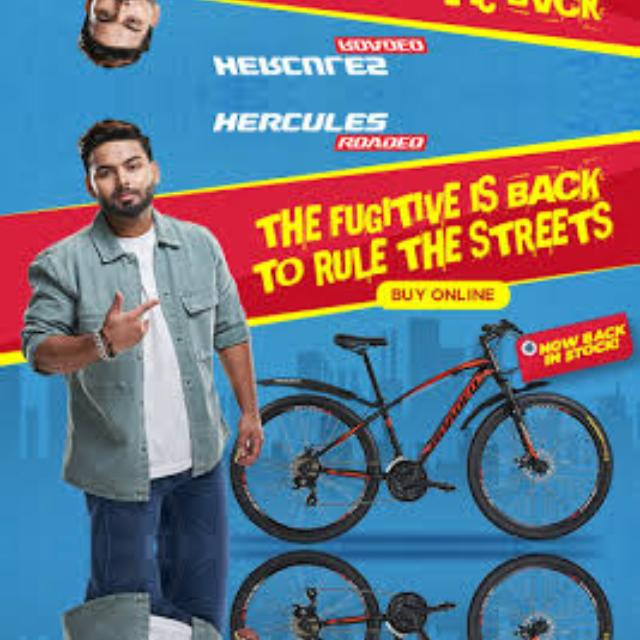obstacle: (241, 312, 613, 546), (241, 546, 613, 640)
